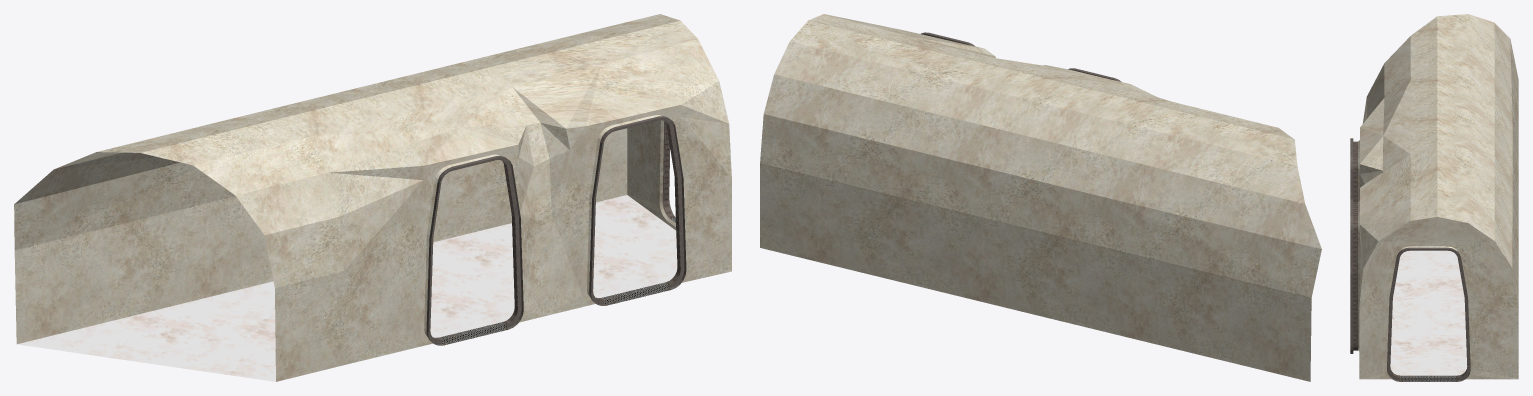
File: thm_tato_assoc_hall_civ_s02_r15_hall2_mesh_r15.fbx
3 views of the same model, side by side, from view 1: azimuth 30°, elevation 25°; view 2: azimuth 150°, elevation 25°; view 3: azimuth 270°, elevation 25° (orthographic). The views are drawn at different scales.
Visible parts, largest first — view 1: mesh_node; view 2: mesh_node; view 3: mesh_node.
Part boxes in pixels (x1,y1,x2,y2): mesh_node: [14, 14, 731, 381]; mesh_node: [760, 14, 1321, 381]; mesh_node: [1350, 14, 1518, 381].
Bounding box in the file's own units: 12 × 3.89 × 3.65.
